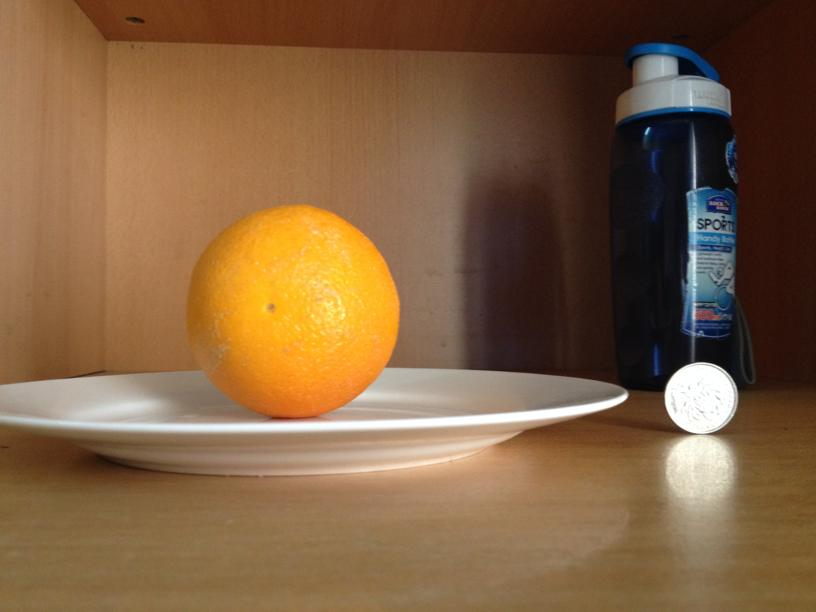coin: (664, 363, 742, 433)
orange: (187, 209, 403, 416)
